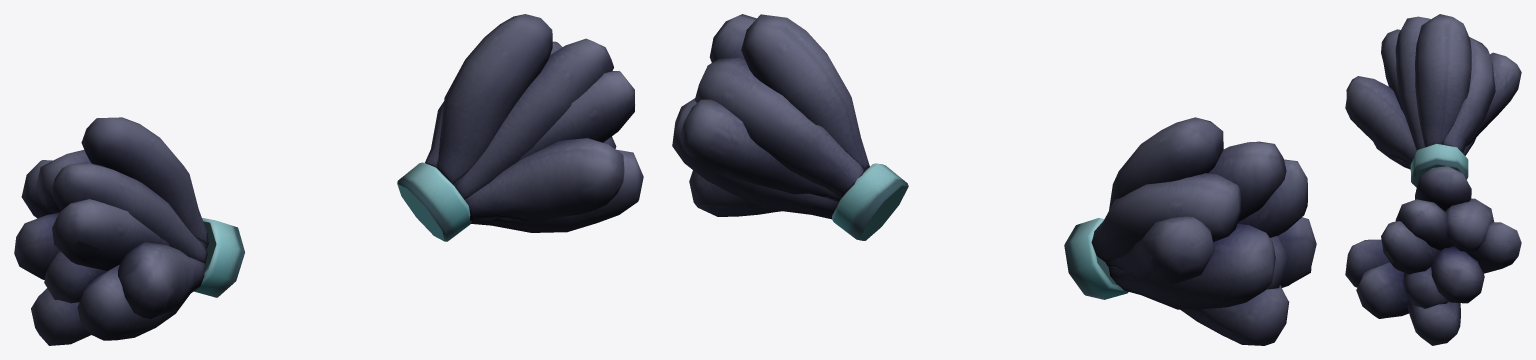
3 renders of one model, left to right at view 1: azimuth 30°, elevation 25°; view 2: azimuth 150°, elevation 25°; view 3: azimuth 270°, elevation 25°, orthographic. The views are drawn at different scales.
Parts seen in each view (by area): view 1: geometry_0; view 2: geometry_0; view 3: geometry_0.
Boxes of the visible parts, x1,y1,x2,y2 form: geometry_0: [14, 14, 643, 345]; geometry_0: [672, 14, 1316, 345]; geometry_0: [1345, 14, 1521, 345].
Size of the model in its own units: 1.44 by 0.4861 by 0.5067.
1 material, 1 textured.
